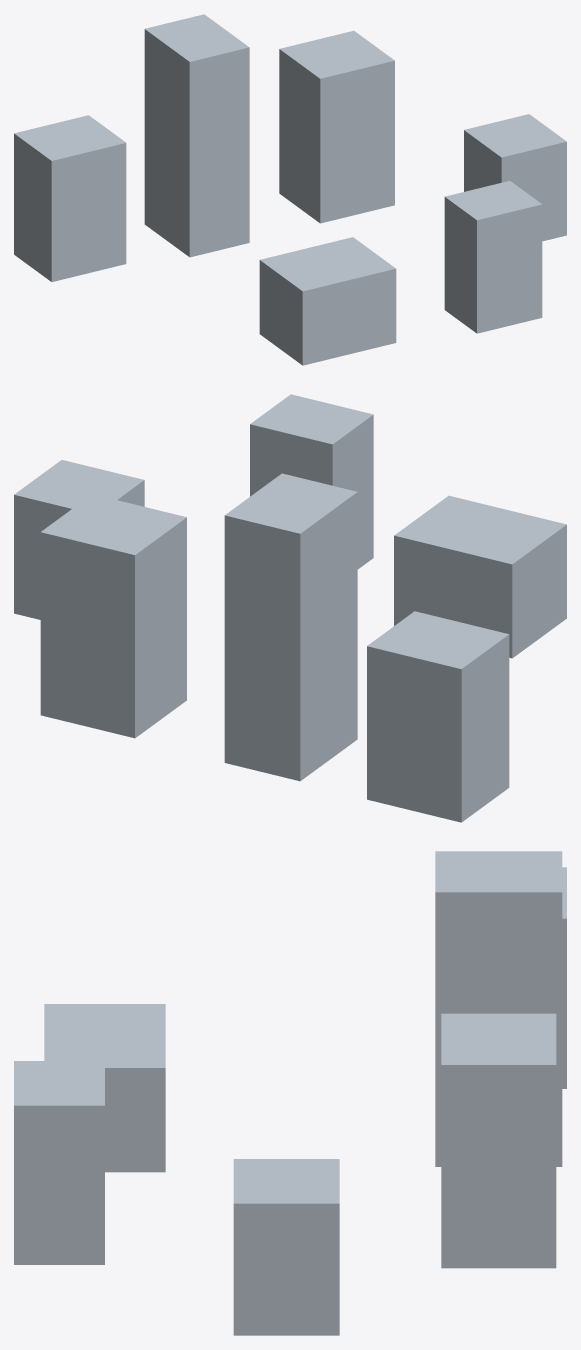
File: buildings.glb
3 views of the same model, one above another, from view 1: azimuth 30°, elevation 25°; view 2: azimuth 150°, elevation 25°; view 3: azimuth 270°, elevation 25° (orthographic). The views are drawn at different scales.
Bounding box in the file's own units: 232 × 100 × 182.
